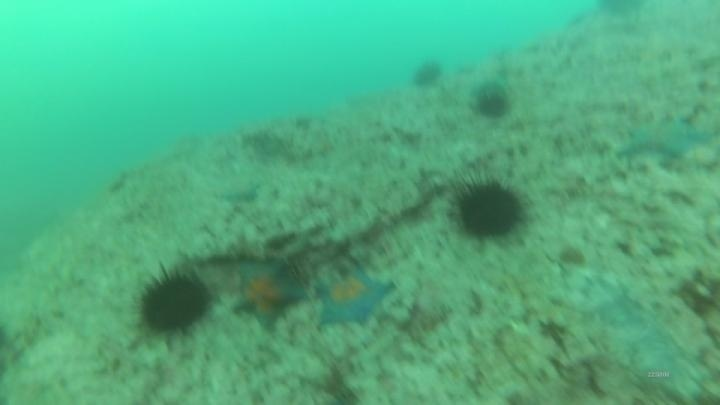echinus: (134, 265, 215, 341), (449, 174, 528, 245), (472, 88, 512, 122), (410, 59, 445, 92)
starfish: (228, 257, 307, 333), (312, 264, 395, 332), (614, 112, 714, 168), (215, 177, 264, 207)
